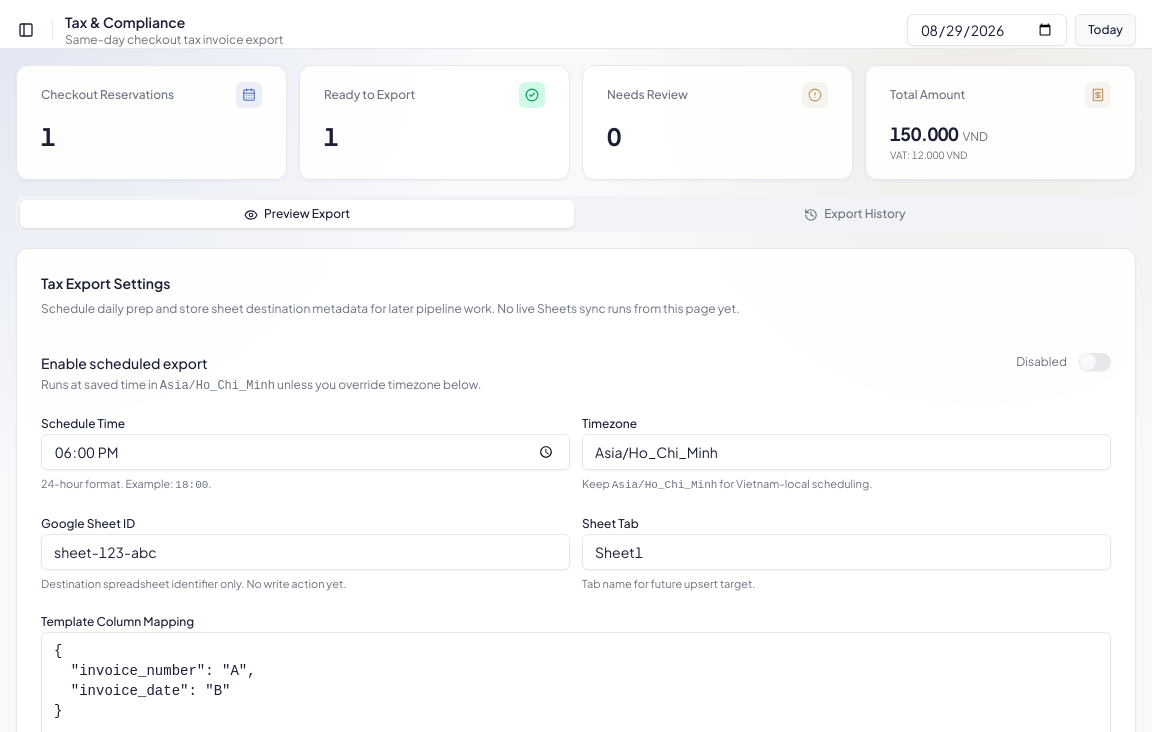
Test: TaxExportPage Component › should render loading state on initialization and populate preview data and settings
Expected: the text with test id "checkout-count" reads "1", [41,121,55,151]
Expected: the text with test id "ready-count" reads "1", [324,121,338,151]
Note: Click setting Switch
What coordinates should you click on to do the following:
click the switch with test id "schedule-enabled-switch"
I would click on:
 (1095, 362)
Its box is [1079,353,1111,371].
(page scrolled)
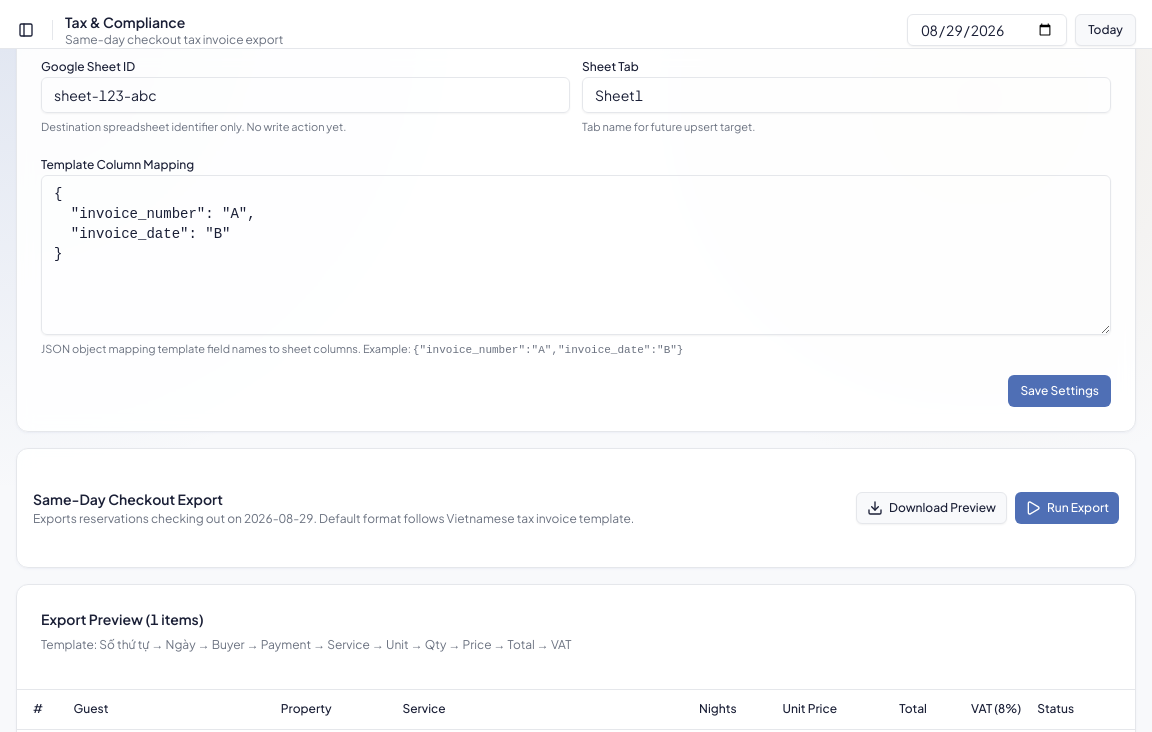
Note: Click Save Settings button
What coordinates should you click on to do the following:
click the button with test id "save-tax-export-settings-btn"
I would click on:
 (1060, 390)
Its box is [1008,374,1111,406].
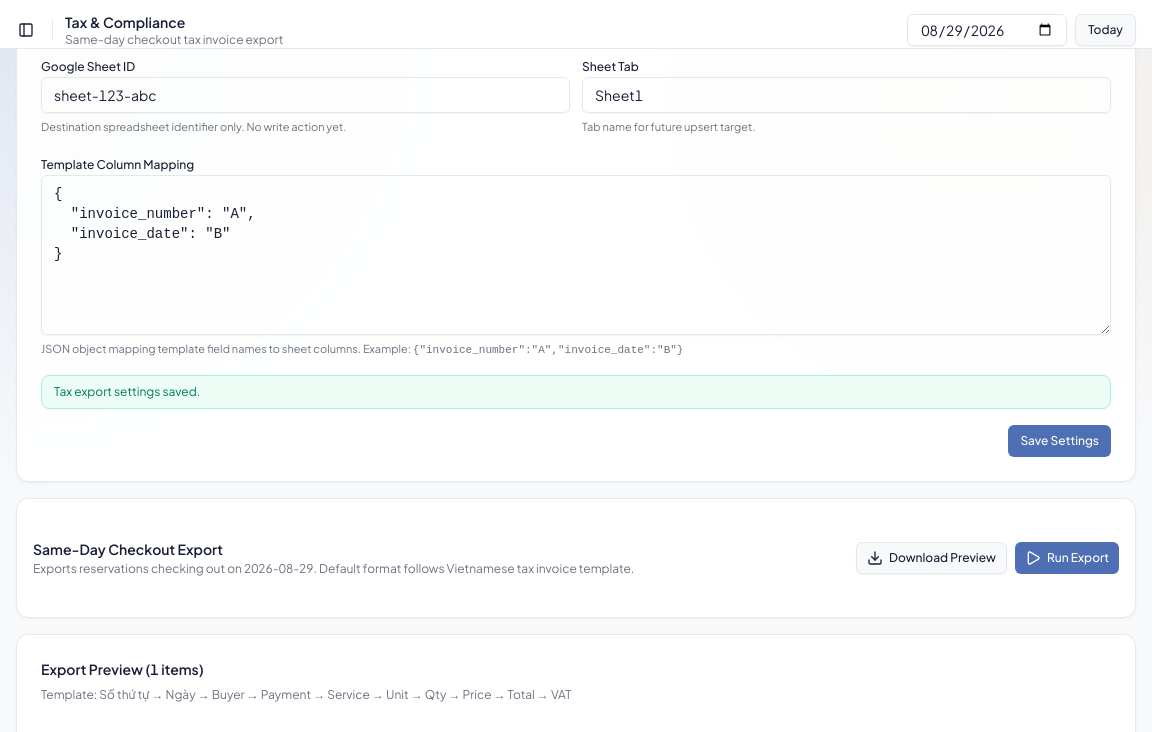
Result: the text "Tax export settings saved." is shown at [41,374,1111,408]
